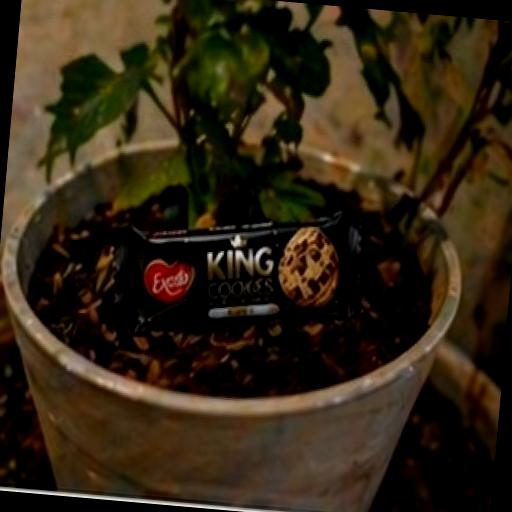king_cooking: (84, 157, 410, 385)
